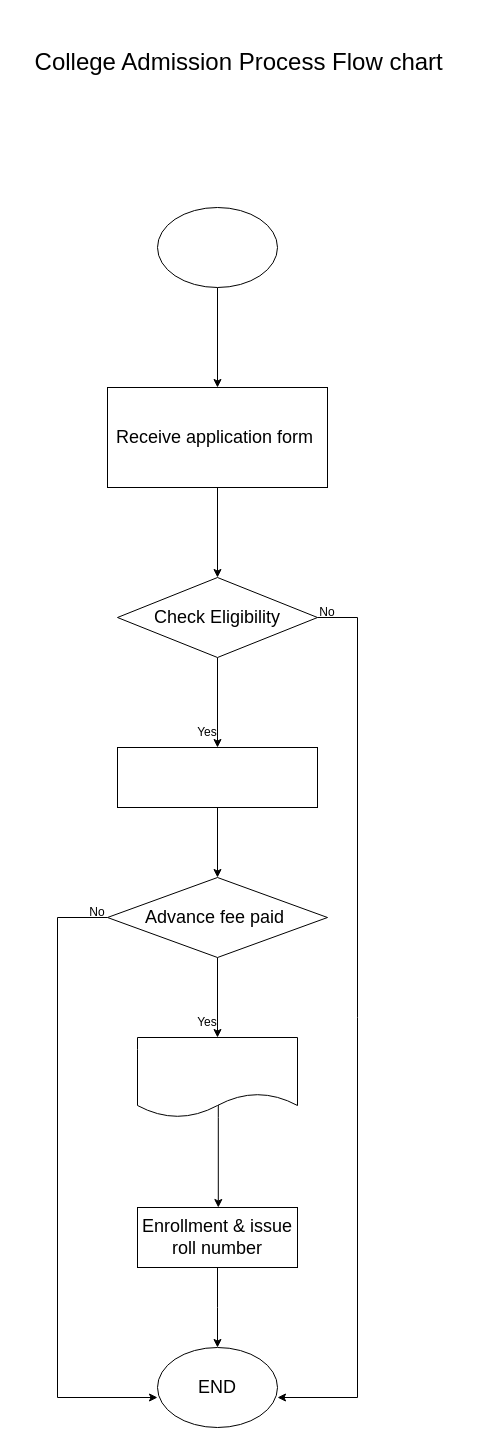
The diagram is 484 pixels wide and 1445 high, and some of its shapes have lost their labels. Each missing label, with the box of its shape:
Disucss the fee structure: (116, 746, 318, 808)
Documentation: (136, 1036, 298, 1118)
Start: (156, 206, 278, 288)
